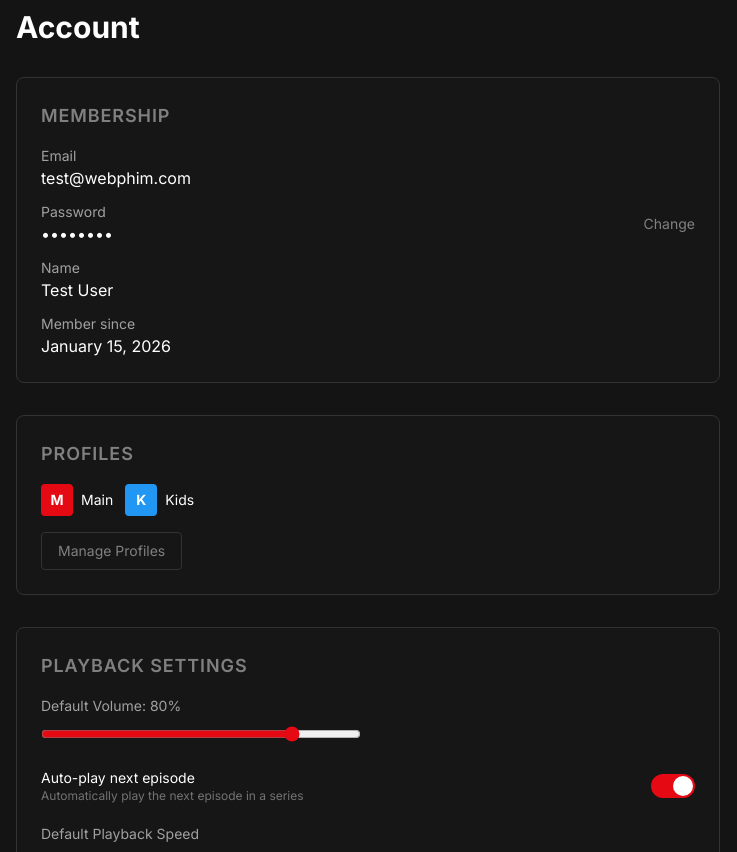
Test case: AccountPage › shows error when passwords do not match
Click the button with test id "change-password-toggle" at (669, 224), box [644,214,695,234]
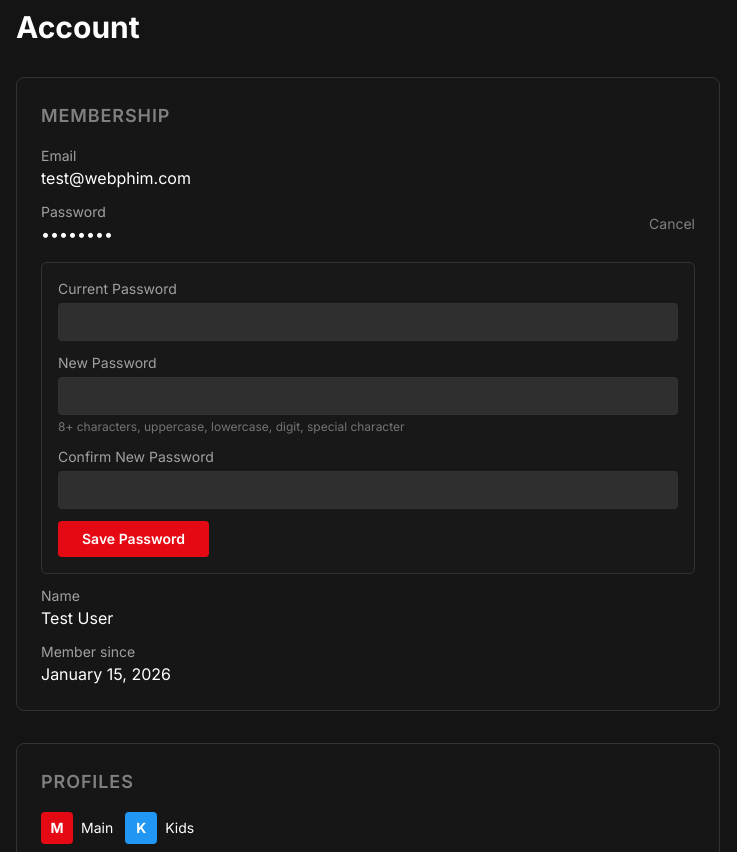
Type "OldPass@1" into the password field with test id "current-password-input" at (368, 322), box [58,303,678,341]
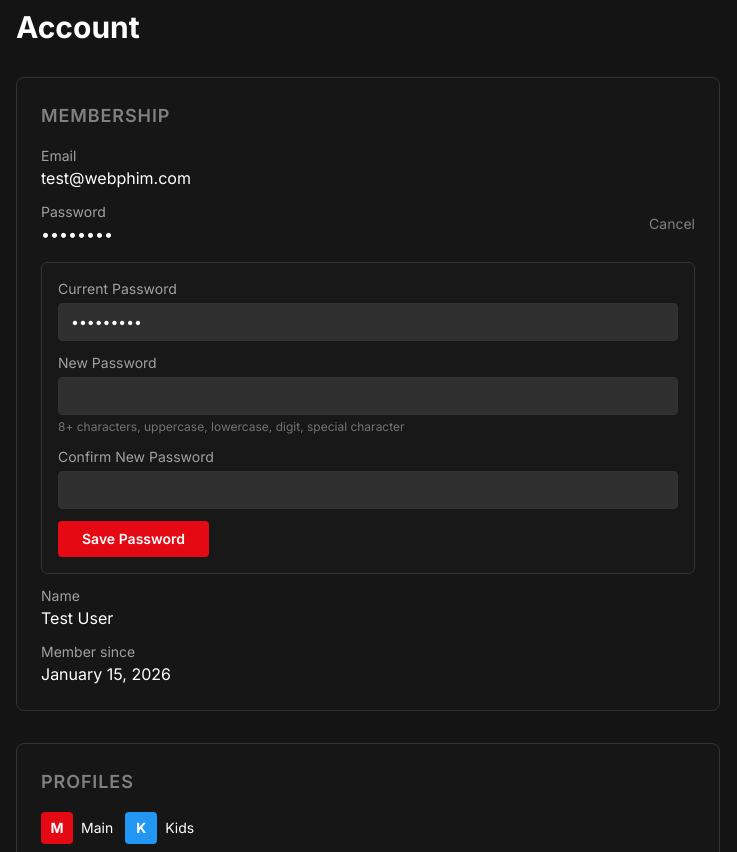
Type "NewPass@1" into the password field with test id "new-password-input" at (368, 396), box [58,377,678,415]
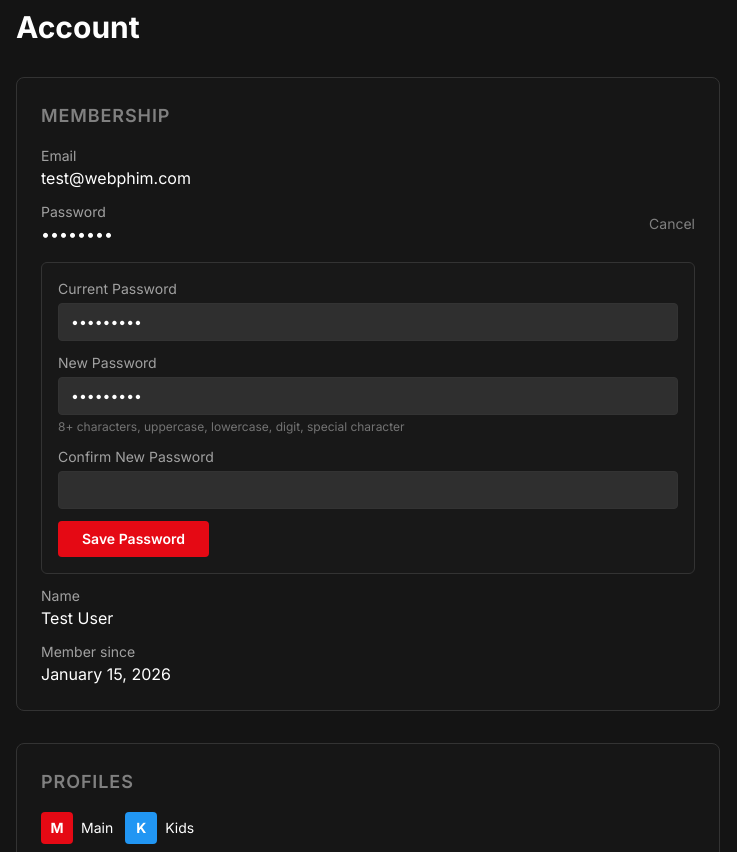
Type "Different@1" into the password field with test id "confirm-password-input" at (368, 490), box [58,471,678,509]
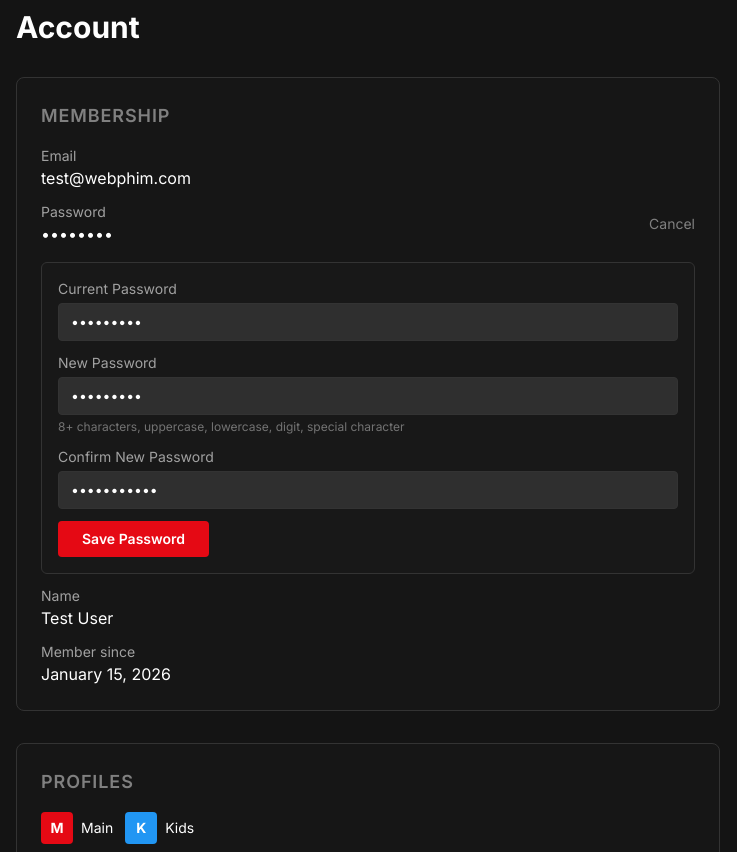
Click the button with test id "submit-password" at (134, 539), box [58,521,209,557]
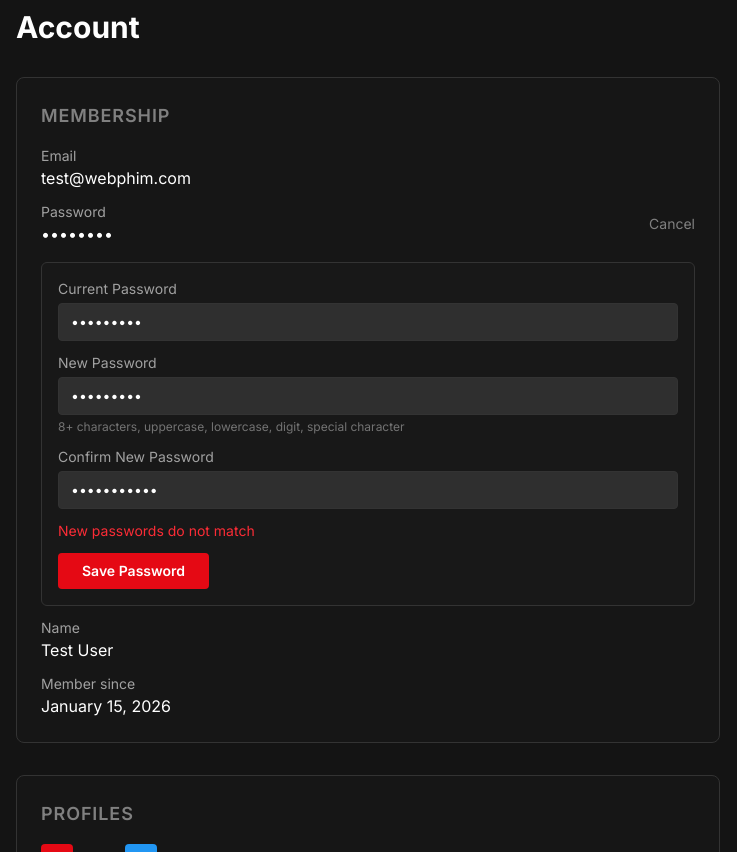
Expected: the message with test id "password-error" reads "New passwords do not match", [58,522,255,539]
